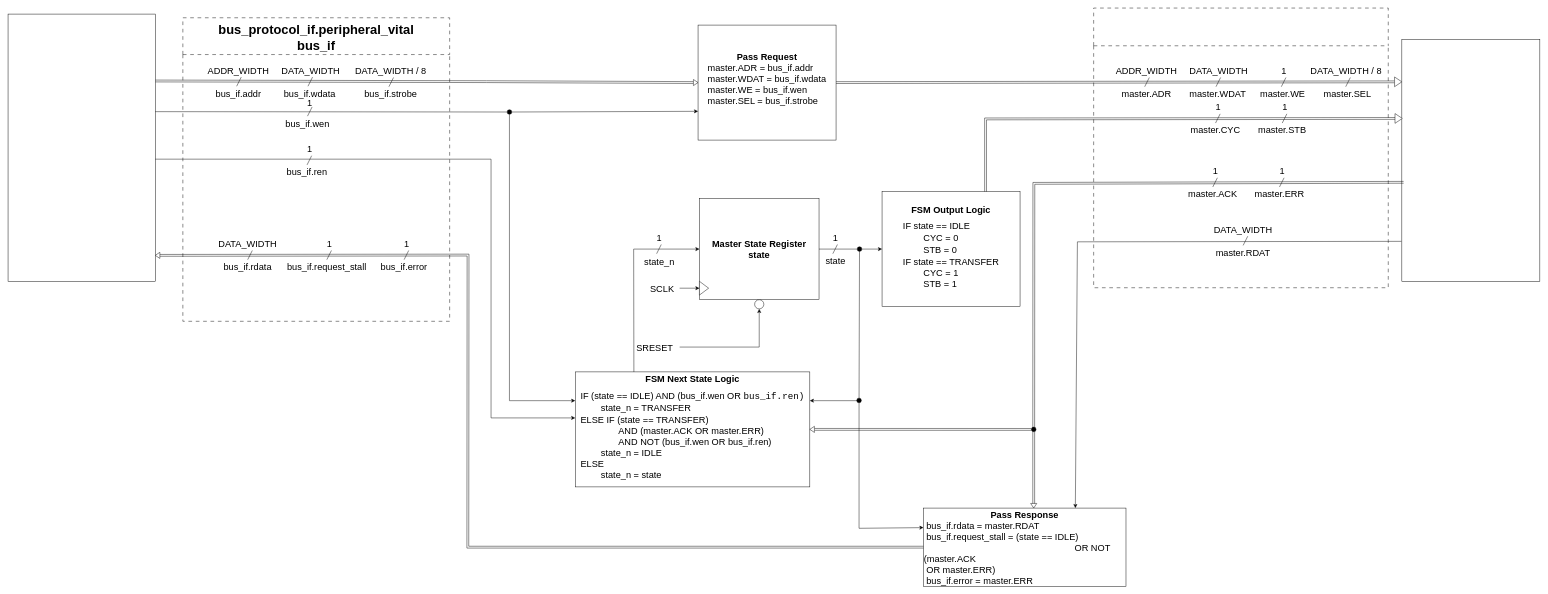
This 1548x594 diagram has some shape labels left out. Here are the shapes that lost their labels. From the top down, the box of each, then its label:
(8, 14, 155, 282): Master Side (e.g., ZPU Core / DMA)
(1093, 8, 1388, 288): wishbone_if.master master
(1401, 39, 1540, 281): Wishbone Master Mux
